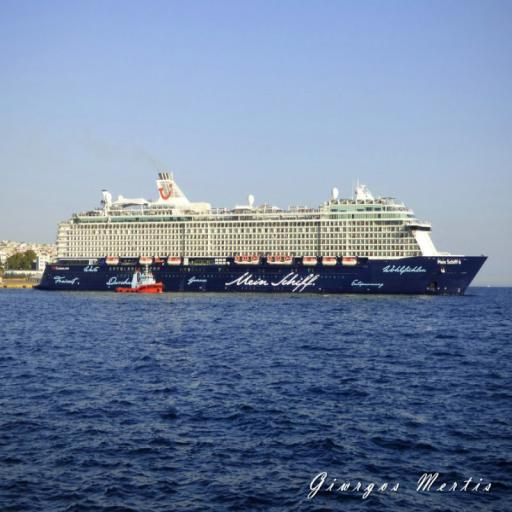cruises: (30, 170, 492, 302)
